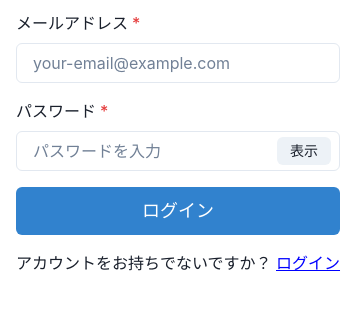
it: LoginForm › 空のフィールドでエラーが表示される
ログインボタンをクリック
Click the button "ログイン": (178,211) [16, 187, 340, 235]
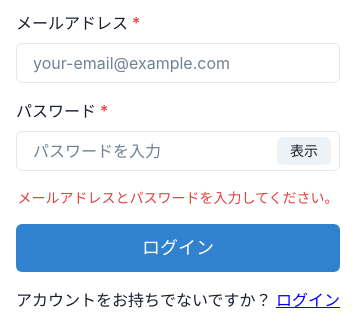
Now the text "メールアドレスとパスワードを入力してください。" is shown, box [16, 187, 340, 208]
